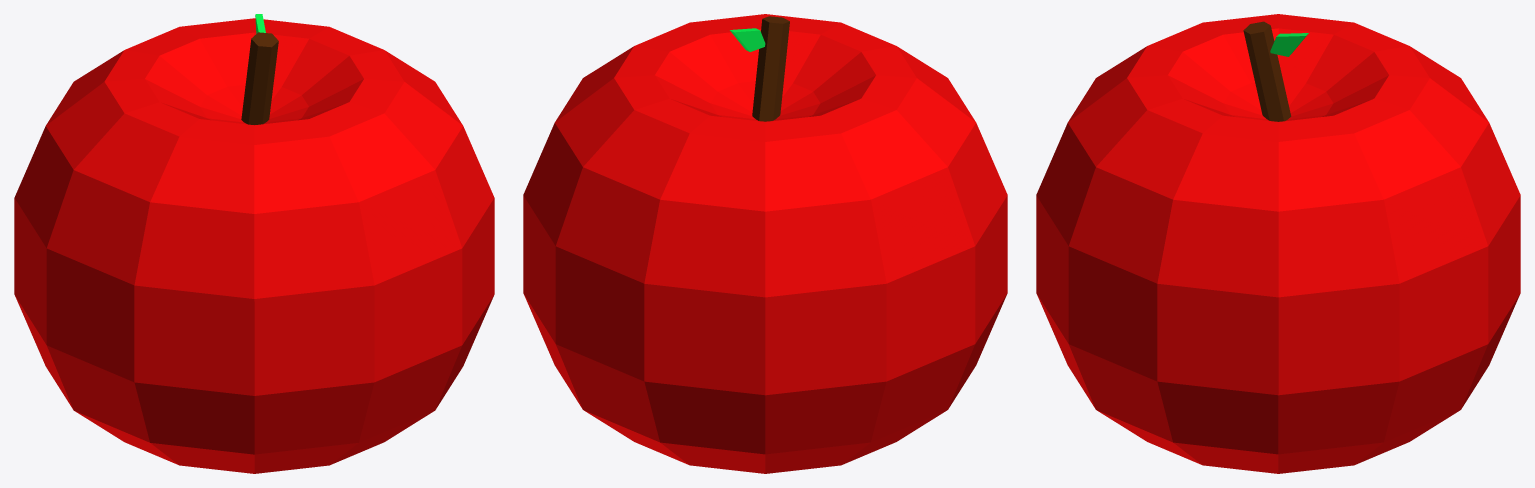
File: apple.fbx
3 views of the same model, side by side, from view 1: azimuth 30°, elevation 25°; view 2: azimuth 150°, elevation 25°; view 3: azimuth 270°, elevation 25° (orthographic).
Visible parts, largest first — view 1: Sphere, Cylinder; view 2: Sphere, Cylinder, Cube; view 3: Sphere, Cylinder, Cube.
Boxes of the visible parts, bbox=[...] form: Sphere: bbox=[14, 18, 494, 473]; Cylinder: bbox=[241, 32, 278, 124]; Sphere: bbox=[523, 14, 1007, 473]; Cylinder: bbox=[752, 16, 789, 121]; Cube: bbox=[730, 28, 765, 51]; Sphere: bbox=[1036, 14, 1520, 473]; Cylinder: bbox=[1243, 21, 1291, 121]; Cube: bbox=[1270, 33, 1308, 56].
Size of the model in its own units: 152 by 134 by 152.
